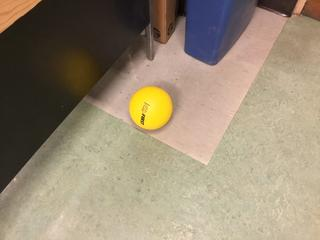power_cell: (126, 85, 180, 134)
